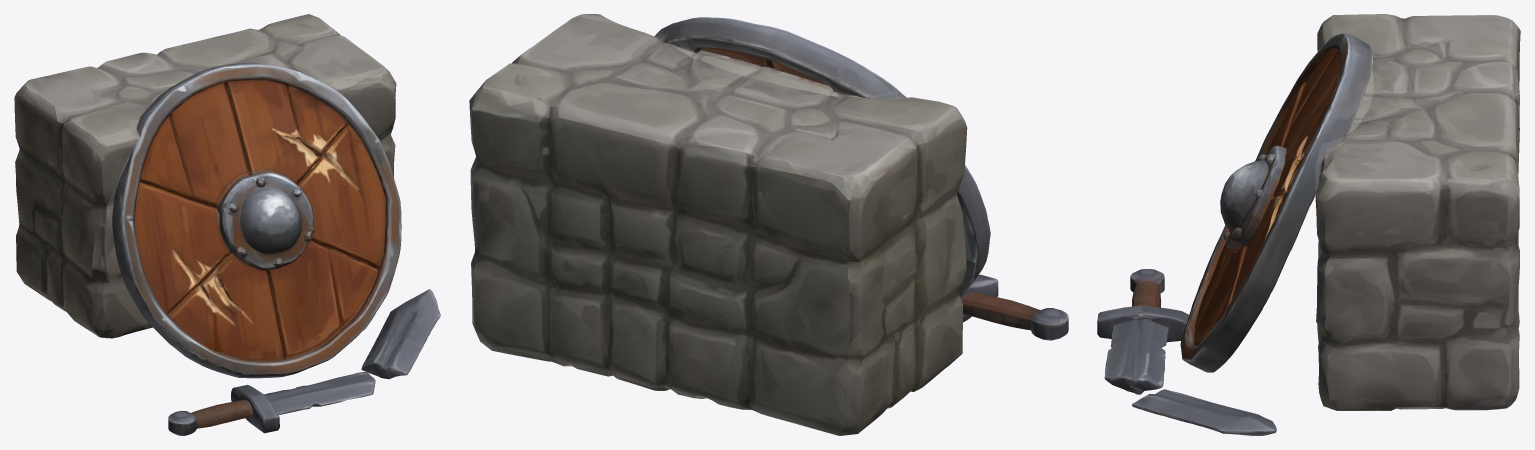
Rendered from broken_shield_sword.glb.
3 views of the same model, side by side, from view 1: azimuth 30°, elevation 25°; view 2: azimuth 150°, elevation 25°; view 3: azimuth 270°, elevation 25° (orthographic). The views are drawn at different scales.
Visible parts, largest first — view 1: geometry_0; view 2: geometry_0; view 3: geometry_0.
Part boxes in pixels (bbox=[...]): geometry_0: bbox=[14, 14, 440, 435]; geometry_0: bbox=[469, 14, 1068, 435]; geometry_0: bbox=[1097, 14, 1520, 435].
Size of the model in its own units: 0.75 by 0.6257 by 0.75.
1 material, 1 textured.
